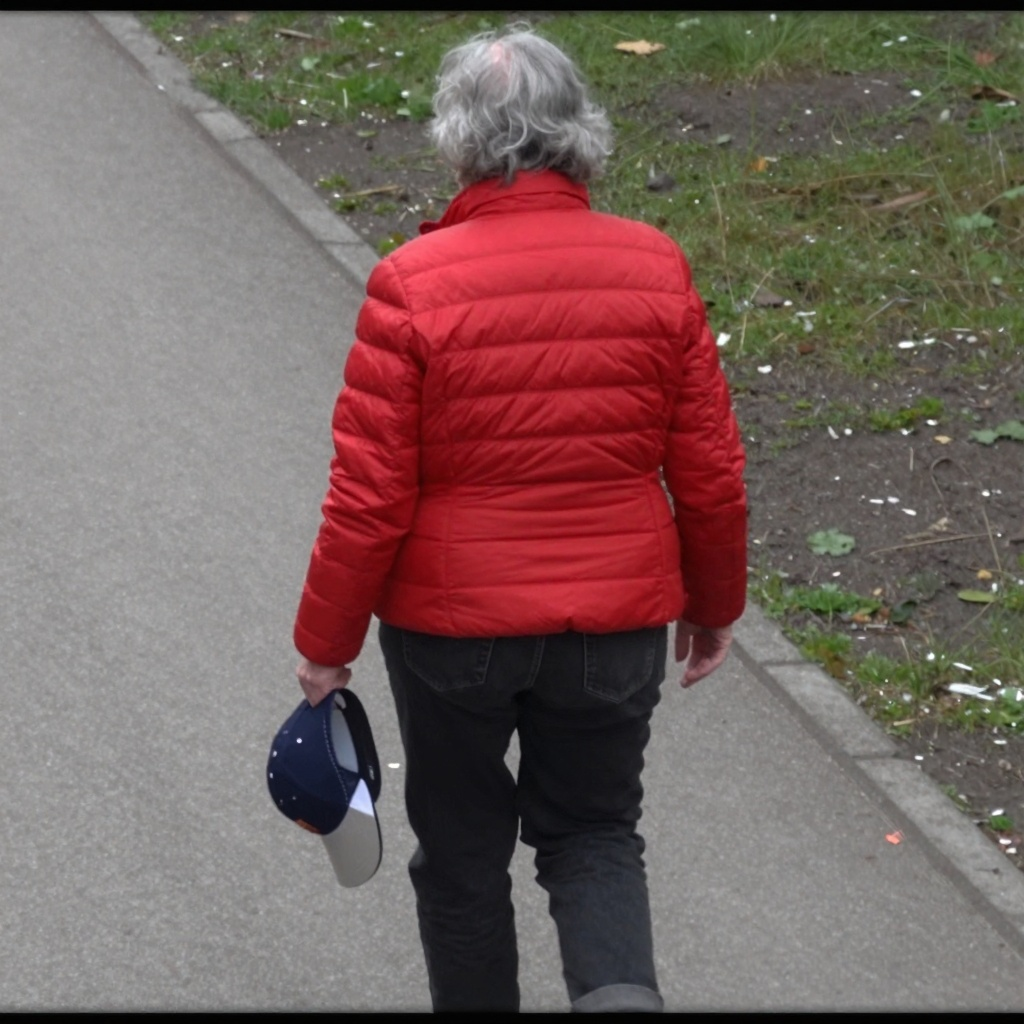Normal activity: (289, 27, 751, 1007)
